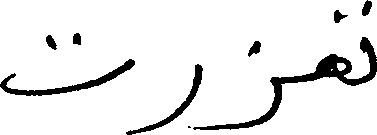X: (0, 28, 134, 134), (233, 36, 282, 133), (151, 59, 201, 134), (318, 5, 349, 89), (360, 0, 376, 88)
